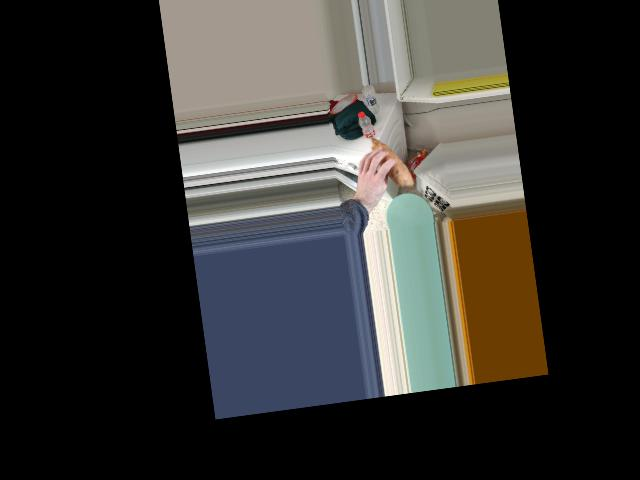sweet_potato: (363, 135, 412, 184)
